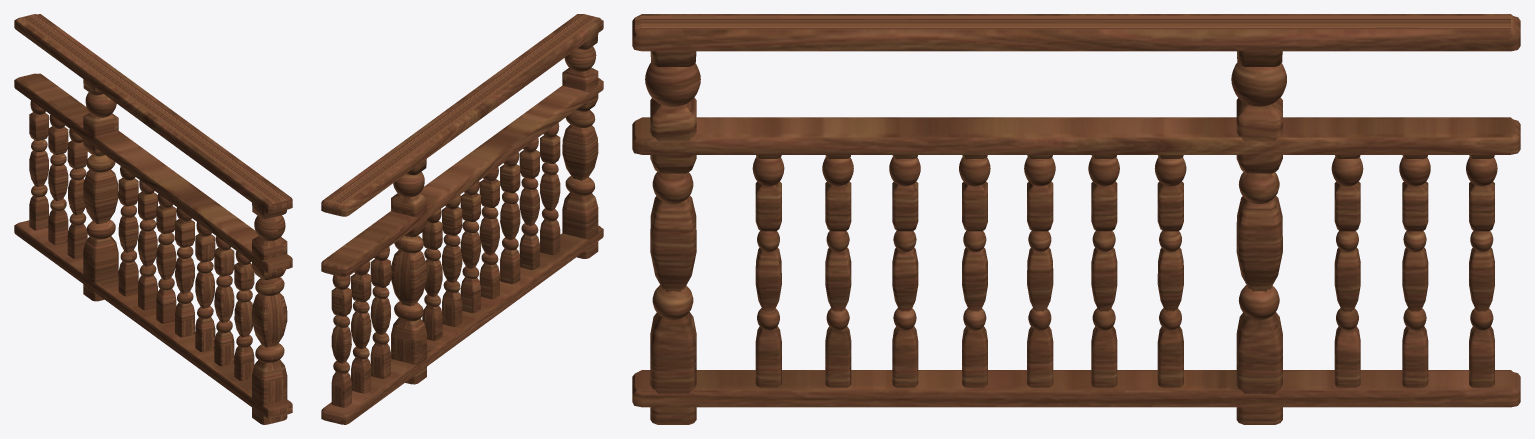
Rendered from railing.fbx.
3 views of the same model, side by side, from view 1: azimuth 30°, elevation 25°; view 2: azimuth 150°, elevation 25°; view 3: azimuth 270°, elevation 25° (orthographic). The views are drawn at different scales.
Parts seen in each view (by area): view 1: polySurface13; view 2: polySurface13; view 3: polySurface13.
Boxes of the visible parts, x1,y1,x2,y2 form: polySurface13: (14, 14, 292, 424); polySurface13: (321, 14, 603, 424); polySurface13: (632, 14, 1520, 424).
Size of the model in its own units: 0.3985 by 3.17 by 6.53.
